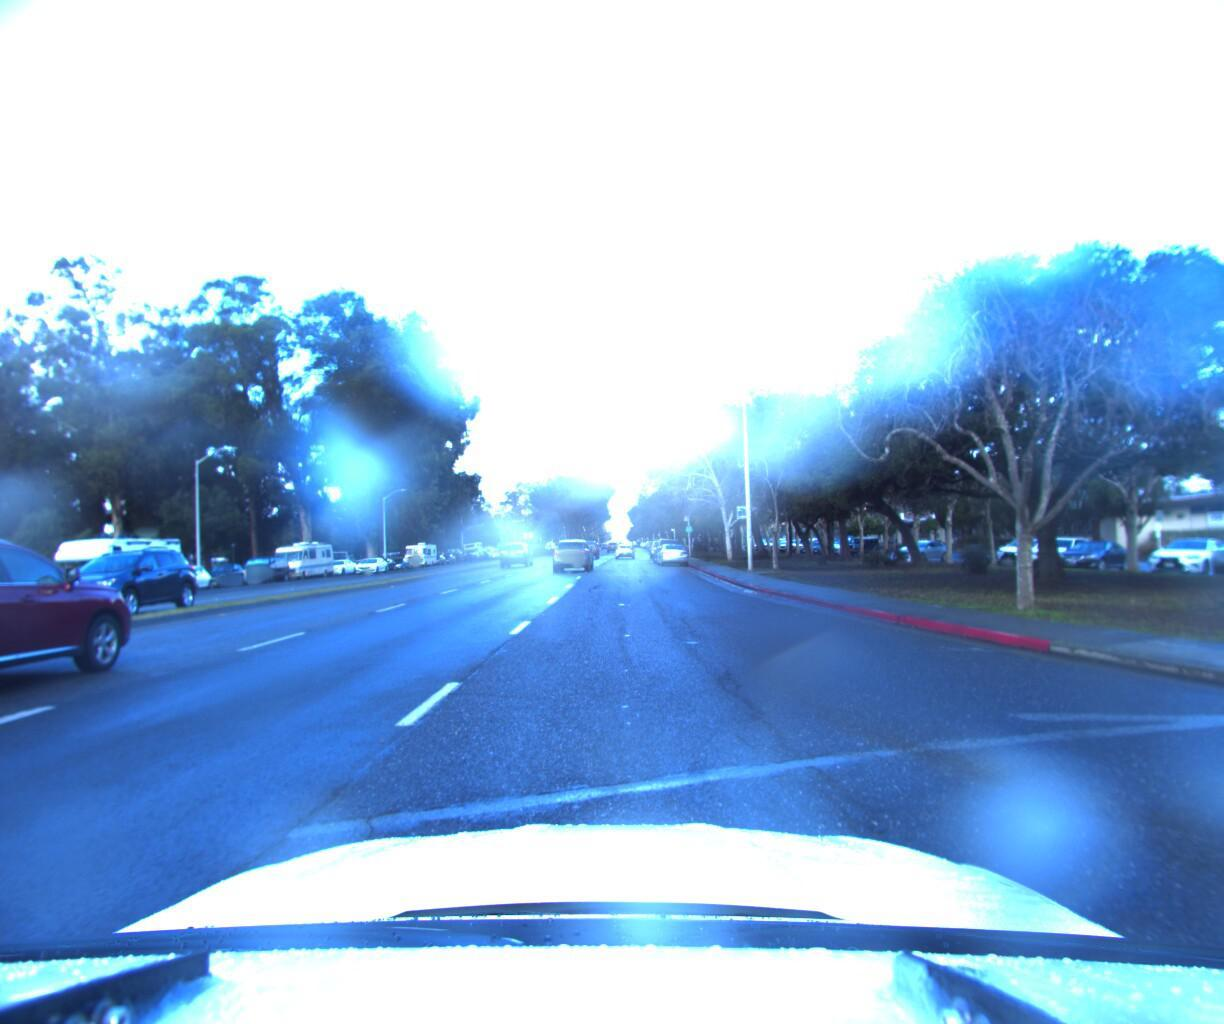car: (0, 521, 161, 744), (27, 545, 212, 622), (545, 538, 595, 573), (200, 563, 260, 589), (241, 555, 296, 582), (161, 566, 219, 591), (498, 542, 537, 568), (653, 542, 690, 567), (319, 560, 362, 578), (354, 557, 390, 575), (613, 542, 634, 558)
other_vehicle: (44, 535, 194, 606), (267, 542, 340, 583)
